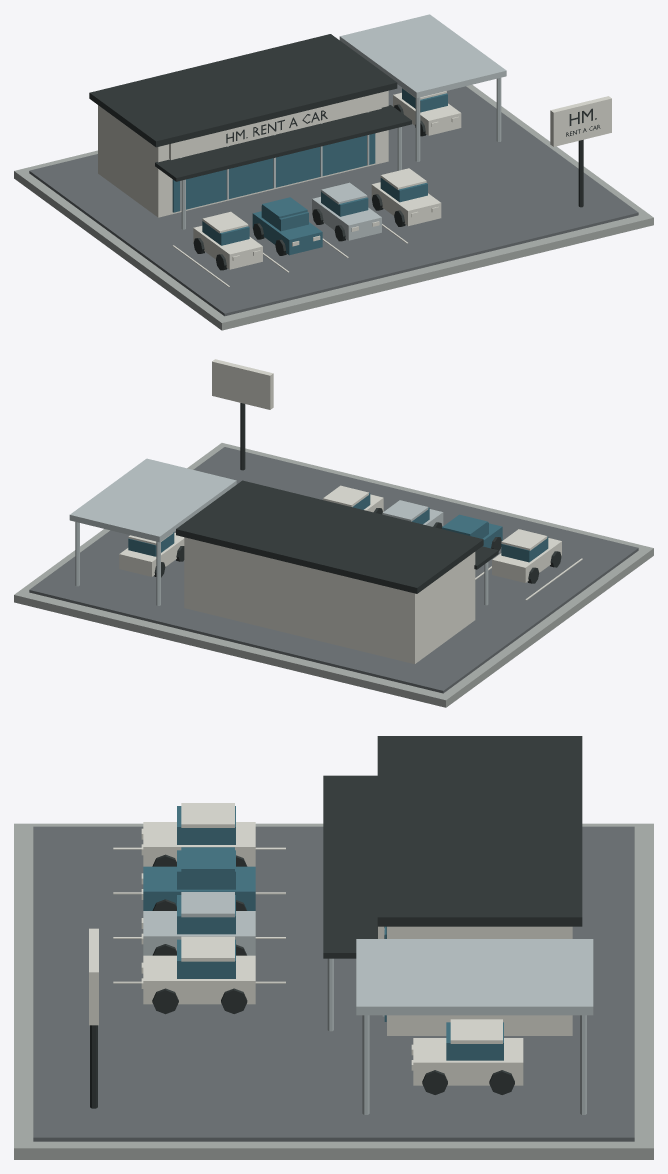
3 views of the same model, one above another, from view 1: azimuth 30°, elevation 25°; view 2: azimuth 150°, elevation 25°; view 3: azimuth 270°, elevation 25° (orthographic). The views are drawn at different scales.
Visible parts, largest first — view 1: hm-rent-car-fukuoka; view 2: hm-rent-car-fukuoka; view 3: hm-rent-car-fukuoka.
Part boxes in pixels (bbox=[...]): hm-rent-car-fukuoka: bbox=[14, 14, 653, 330]; hm-rent-car-fukuoka: bbox=[14, 359, 653, 707]; hm-rent-car-fukuoka: bbox=[14, 736, 653, 1159].
Size of the model in its own units: 12 by 3 by 10.
